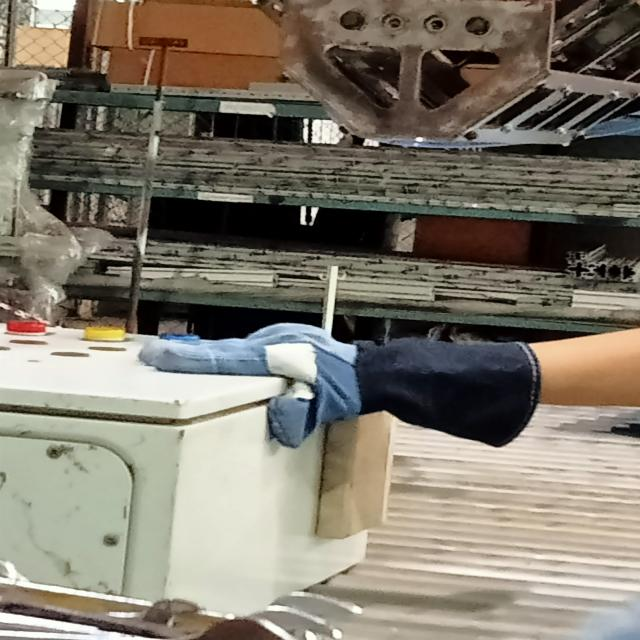Gloves-Detection: (153, 324, 540, 451)
